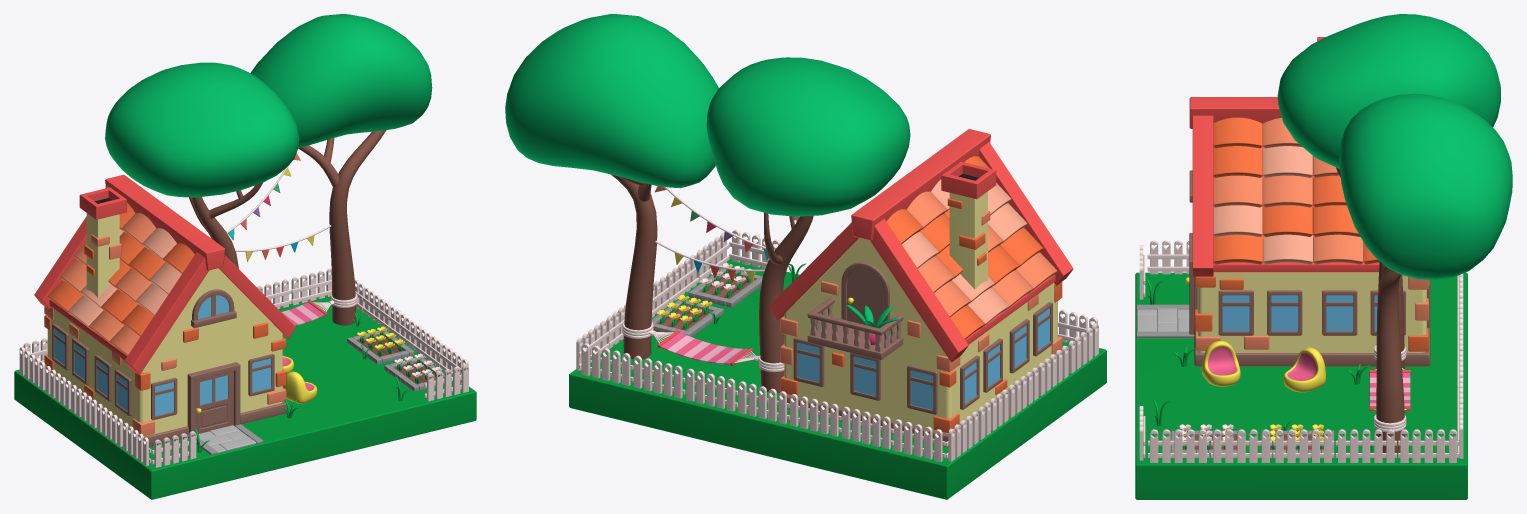
Rendered from Town_Island_14.glb.
3 renders of one model, left to right at view 1: azimuth 30°, elevation 25°; view 2: azimuth 150°, elevation 25°; view 3: azimuth 270°, elevation 25°, orthographic. The views are drawn at different scales.
Parts seen in each view (by area): view 1: Town_14_House_1, Town_14_Base_1, Town_14_Tree_1, Town_14_Tree_3, Town_14_Path_1, Town_14_Fence_1, Town_14_Fence_19, Town_14_Garden_1, Town_14_Fence_13, Town_14_Garden_2, Town_14_Fence_6, Town_14_Beanbag_Chair_1 (+10 smaller); view 2: Town_14_House_1, Town_14_Tree_3, Town_14_Tree_1, Town_14_Base_1, Town_14_Hammock_1, Town_14_Fence_12, Town_14_Fence_7, Town_14_Fence_13, Town_14_Fence_9, Town_14_Fence_11, Town_14_Fence_8, Town_14_Fence_10 (+13 smaller); view 3: Town_14_House_1, Town_14_Base_1, Town_14_Tree_3, Town_14_Tree_1, Town_14_Path_1, Town_14_Fence_17, Town_14_Fence_18, Town_14_Fence_14, Town_14_Fence_16, Town_14_Fence_15, Town_14_Beanbag_Chair_1, Town_14_Beanbag_Chair_2 (+3 smaller).
Boxes of the visible parts, x1=… form: Town_14_House_1: x1=34, y1=174, x2=295, y2=446; Town_14_Base_1: x1=14, y1=295, x2=476, y2=499; Town_14_Tree_1: x1=105, y1=62, x2=299, y2=268; Town_14_Tree_3: x1=250, y1=14, x2=432, y2=325; Town_14_Path_1: x1=187, y1=424, x2=263, y2=455; Town_14_Fence_1: x1=152, y1=431, x2=196, y2=467; Town_14_Fence_19: x1=424, y1=364, x2=468, y2=401; Town_14_Garden_1: x1=347, y1=330, x2=414, y2=364; Town_14_Fence_13: x1=291, y1=268, x2=331, y2=305; Town_14_Garden_2: x1=384, y1=358, x2=444, y2=391; Town_14_Fence_6: x1=19, y1=347, x2=45, y2=390; Town_14_Beanbag_Chair_1: x1=282, y1=371, x2=317, y2=403; Town_14_House_1: x1=769, y1=129, x2=1073, y2=447; Town_14_Tree_3: x1=505, y1=14, x2=718, y2=359; Town_14_Tree_1: x1=706, y1=57, x2=910, y2=392; Town_14_Base_1: x1=569, y1=258, x2=1106, y2=499; Town_14_Hammock_1: x1=649, y1=330, x2=758, y2=365; Town_14_Fence_12: x1=633, y1=355, x2=685, y2=398; Town_14_Fence_7: x1=893, y1=419, x2=945, y2=461; Town_14_Fence_13: x1=581, y1=343, x2=633, y2=385; Town_14_Fence_9: x1=789, y1=394, x2=841, y2=436; Town_14_Fence_11: x1=686, y1=368, x2=737, y2=411; Town_14_Fence_8: x1=842, y1=406, x2=893, y2=449; Town_14_Fence_10: x1=738, y1=381, x2=789, y2=423; Town_14_House_1: x1=1185, y1=37, x2=1430, y2=366; Town_14_Base_1: x1=1135, y1=272, x2=1467, y2=499; Town_14_Tree_3: x1=1339, y1=93, x2=1512, y2=452; Town_14_Tree_1: x1=1277, y1=14, x2=1500, y2=369; Town_14_Path_1: x1=1136, y1=304, x2=1194, y2=338; Town_14_Fence_17: x1=1210, y1=429, x2=1272, y2=462; Town_14_Fence_18: x1=1147, y1=429, x2=1209, y2=462; Town_14_Fence_14: x1=1398, y1=429, x2=1459, y2=462; Town_14_Fence_16: x1=1273, y1=429, x2=1334, y2=462; Town_14_Fence_15: x1=1335, y1=429, x2=1396, y2=462; Town_14_Beanbag_Chair_1: x1=1201, y1=341, x2=1240, y2=386; Town_14_Beanbag_Chair_2: x1=1283, y1=347, x2=1325, y2=392.
Bounding box in the file's own units: 15.57 × 12.33 × 10.89.
Materials: 58 (58 with a texture image).
